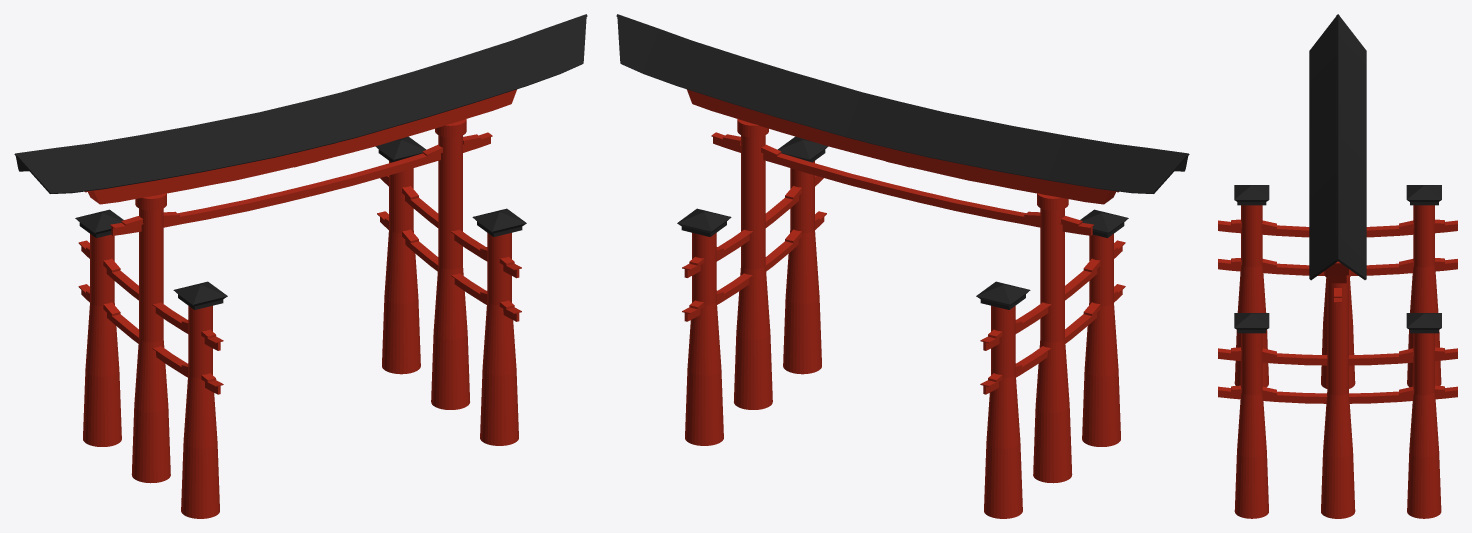
File: torii.fbx
3 renders of one model, left to right at view 1: azimuth 30°, elevation 25°; view 2: azimuth 150°, elevation 25°; view 3: azimuth 270°, elevation 25°, orthographic. The views are drawn at different scales.
Visible parts, largest first — view 1: Plane, Cylinder, Cylinder.001, Cube.006, Cube.005, Cube, Cube.002, Cube.004, Cube.003, Cube.001; view 2: Plane, Cylinder, Cylinder.001, Cube.006, Cube.005, Cube, Cube.002, Cube.004, Cube.003, Cube.001; view 3: Cylinder, Plane, Cylinder.001, Cube, Cube.001, Cube.002, Cube.003, Cube.004.
Part boxes in pixels (x1=…): Plane: x1=14, y1=14, x2=587, y2=193; Cylinder: x1=83, y1=161, x2=518, y2=518; Cylinder.001: x1=131, y1=119, x2=469, y2=483; Cube.006: x1=88, y1=89, x2=516, y2=204; Cube.005: x1=110, y1=132, x2=492, y2=235; Cube: x1=75, y1=136, x2=526, y2=309; Cube.002: x1=377, y1=211, x2=521, y2=321; Cube.004: x1=78, y1=240, x2=223, y2=350; Cube.003: x1=78, y1=284, x2=223, y2=394; Cube.001: x1=380, y1=175, x2=521, y2=278; Plane: x1=616, y1=14, x2=1189, y2=193; Cylinder: x1=685, y1=161, x2=1120, y2=518; Cylinder.001: x1=734, y1=119, x2=1072, y2=483; Cube.006: x1=687, y1=89, x2=1115, y2=204; Cube.005: x1=711, y1=132, x2=1093, y2=235; Cube: x1=677, y1=136, x2=1128, y2=309; Cube.002: x1=682, y1=211, x2=826, y2=321; Cube.004: x1=980, y1=240, x2=1125, y2=350; Cube.003: x1=980, y1=284, x2=1125, y2=394; Cube.001: x1=682, y1=175, x2=823, y2=277; Cylinder: x1=1234, y1=205, x2=1441, y2=518; Plane: x1=1309, y1=14, x2=1366, y2=280; Cylinder.001: x1=1321, y1=269, x2=1355, y2=518; Cube: x1=1234, y1=185, x2=1441, y2=333; Cube.001: x1=1218, y1=347, x2=1457, y2=365; Cube.002: x1=1218, y1=385, x2=1457, y2=403; Cube.003: x1=1218, y1=258, x2=1457, y2=275; Cube.004: x1=1218, y1=219, x2=1457, y2=237.
Bounding box in the file's own units: 924 × 548 × 383.
